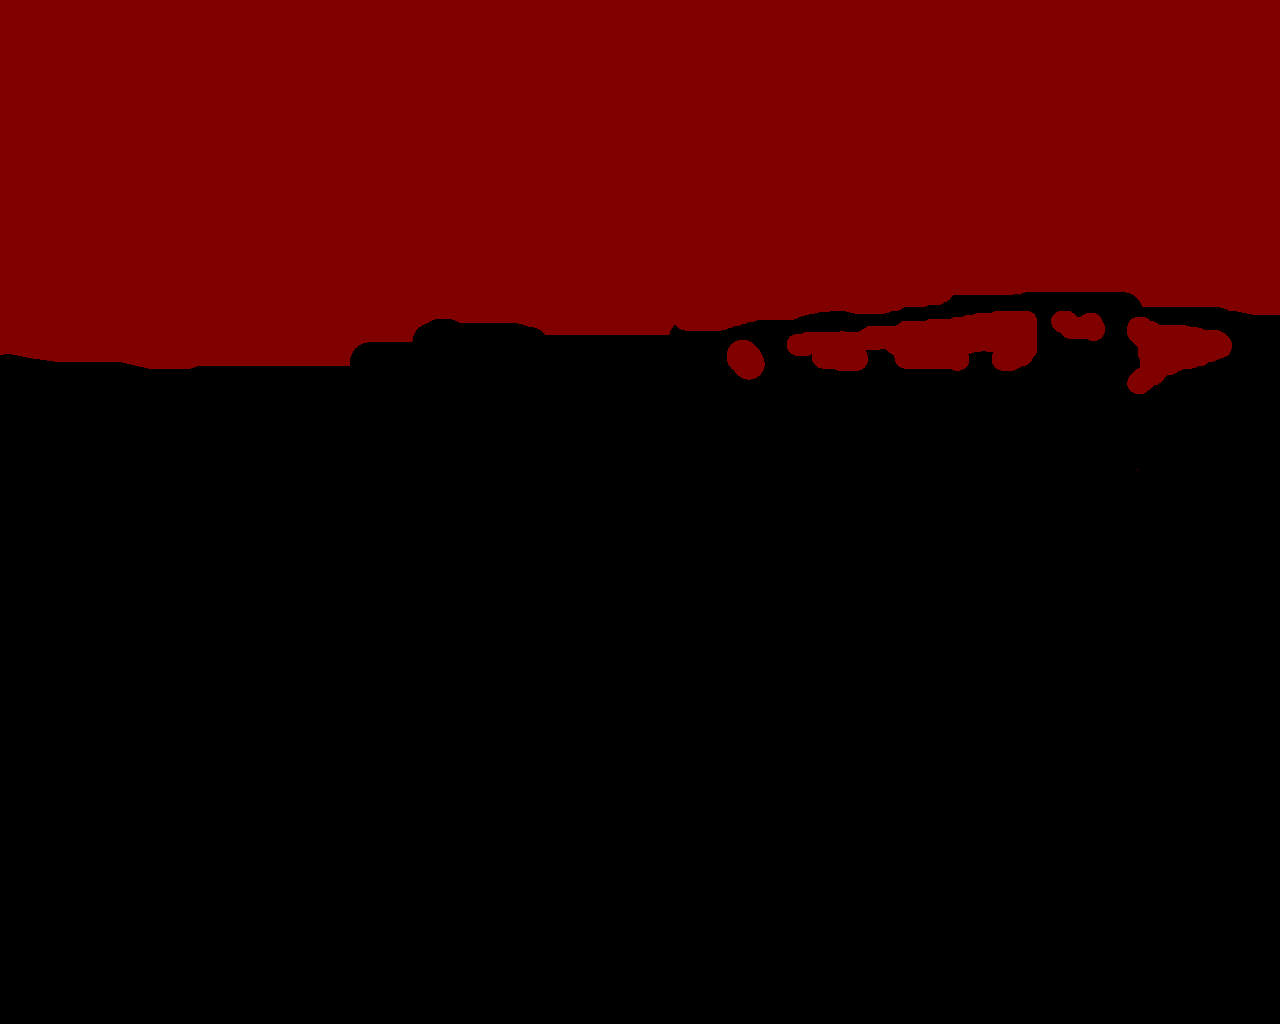Sky: (1, 1, 1279, 470)
